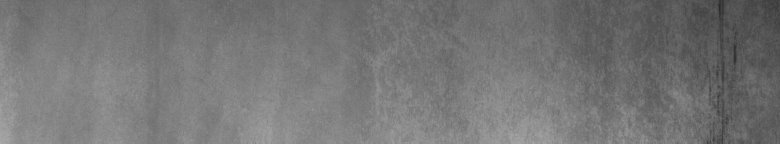ka: (640, 4, 763, 136)
